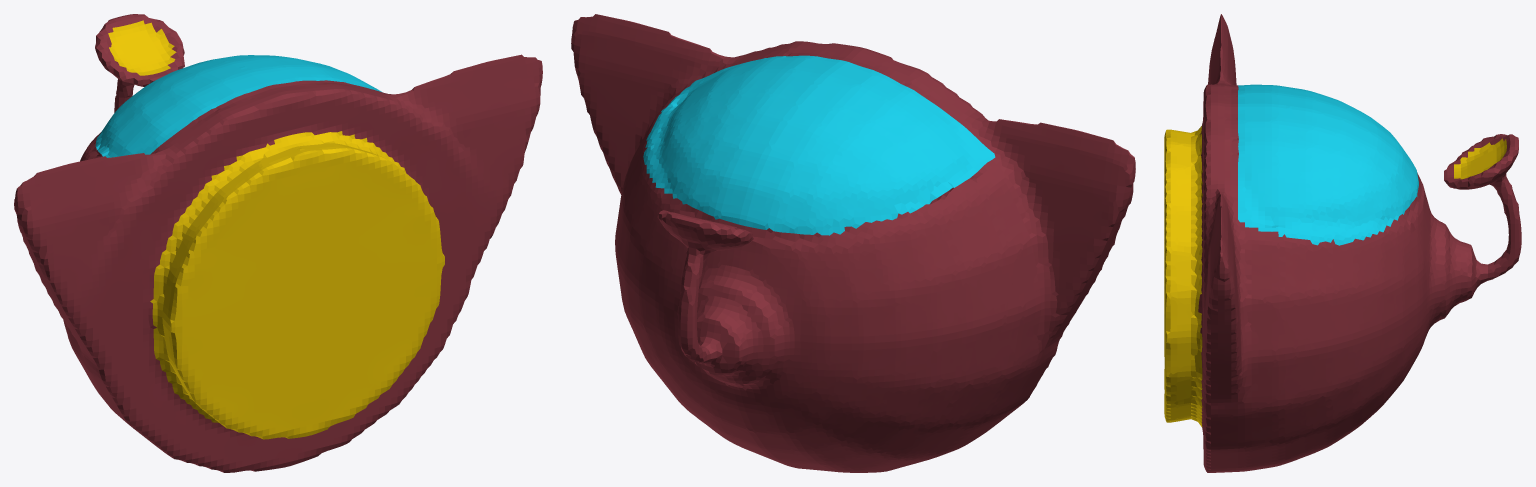
File: Nave2M.fbx
3 views of the same model, side by side, from view 1: azimuth 30°, elevation 25°; view 2: azimuth 150°, elevation 25°; view 3: azimuth 270°, elevation 25° (orthographic). The views are drawn at different scales.
Parts seen in each view (by area): view 1: model; view 2: model; view 3: model.
Boxes of the visible parts, <box> form: model: <box>14,14,542,472</box>; model: <box>571,14,1135,472</box>; model: <box>1164,14,1521,472</box>.
Bounding box in the file's own units: 441 × 299 × 276.
